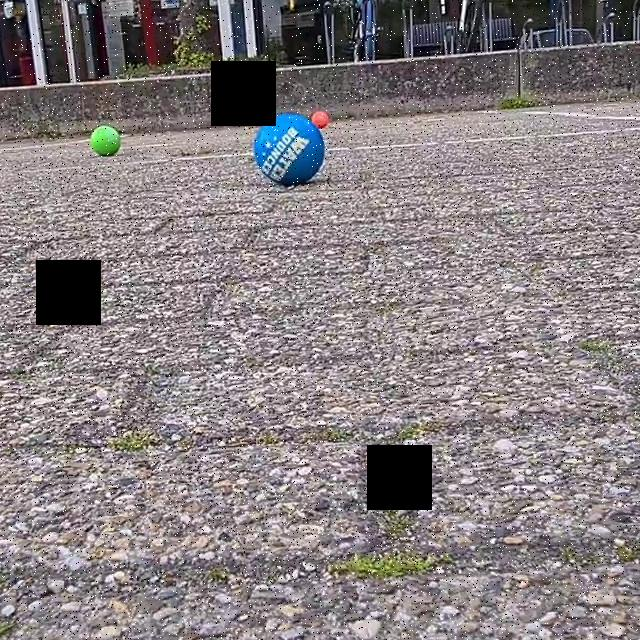ball: (88, 124, 124, 159), (305, 107, 335, 130)
